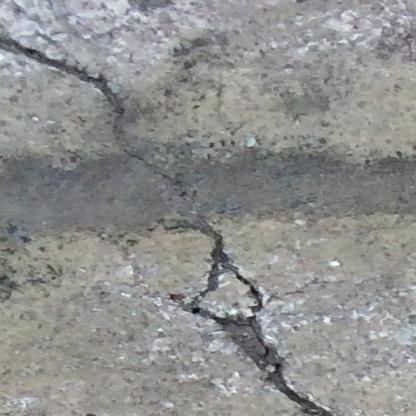Cracks: (159, 215, 346, 416), (0, 23, 132, 125), (126, 150, 191, 189)
